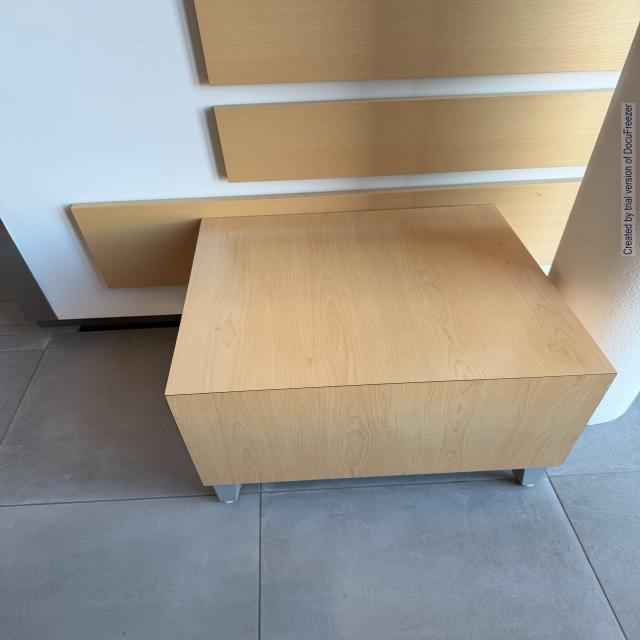Table: (145, 197, 626, 523)
